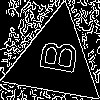B: (30, 35, 79, 76)
